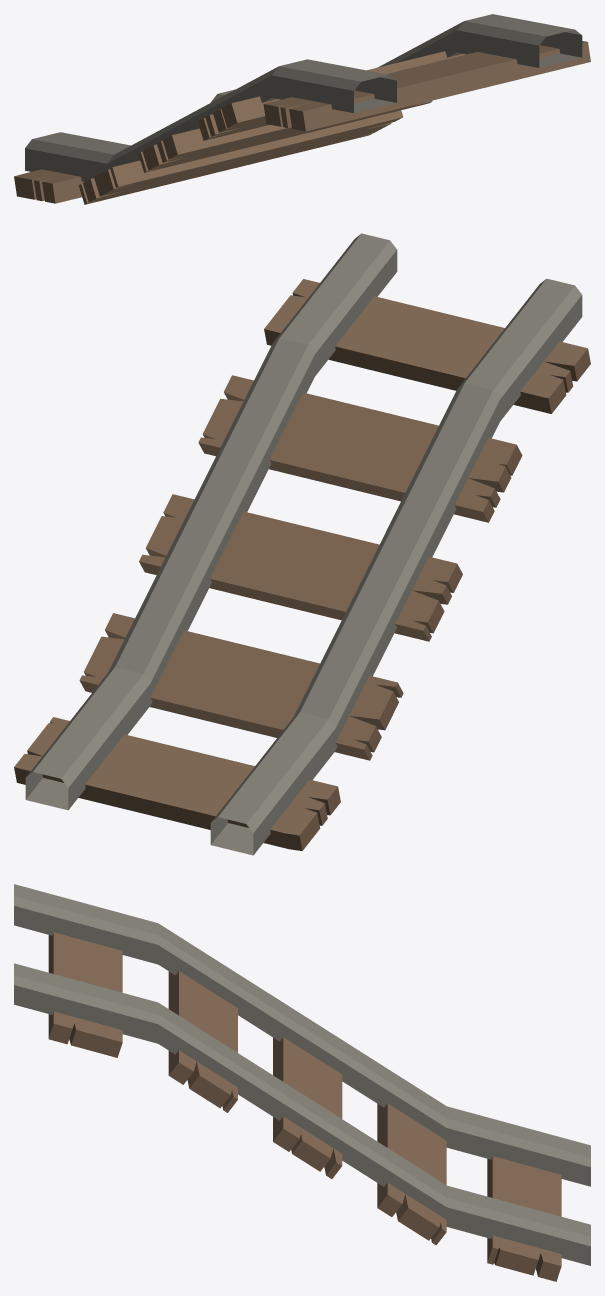
File: Cave_Prop_Railway_Hill_Sharp.obj
The picture shows the model from 3 angles, top to bottom: view 1: azimuth 30°, elevation 25°; view 2: azimuth 150°, elevation 25°; view 3: azimuth 270°, elevation 25°; orthographic projection. The views are drawn at different scales.
Visible parts, largest first — view 1: object5, object1, object6, object3, object7, object2, object4; view 2: object5, object3, object2, object7, object6, object4, object1; view 3: object5, object3, object1, object4, object2, object6, object7.
Part boxes in pixels (box(x1,y1,x2,y2)): object5: box(25, 59, 396, 181); object1: box(263, 41, 590, 131); object6: box(79, 110, 403, 204); object3: box(210, 14, 582, 102); object7: box(138, 101, 432, 172); object2: box(198, 51, 466, 140); object4: box(14, 169, 84, 203); object5: box(210, 278, 582, 855); object3: box(25, 233, 397, 810); object2: box(198, 375, 522, 522); object7: box(139, 494, 462, 641); object6: box(79, 613, 403, 760); object4: box(14, 717, 340, 850); object1: box(264, 279, 590, 413); object5: box(14, 884, 590, 1186); object3: box(14, 963, 590, 1265); object1: box(48, 932, 122, 1057); object4: box(487, 1156, 561, 1281); object2: box(168, 971, 237, 1112); object6: box(377, 1103, 446, 1245); object7: box(273, 1037, 342, 1178).
Size of the model in its own units: 1 by 1.11 by 2.
